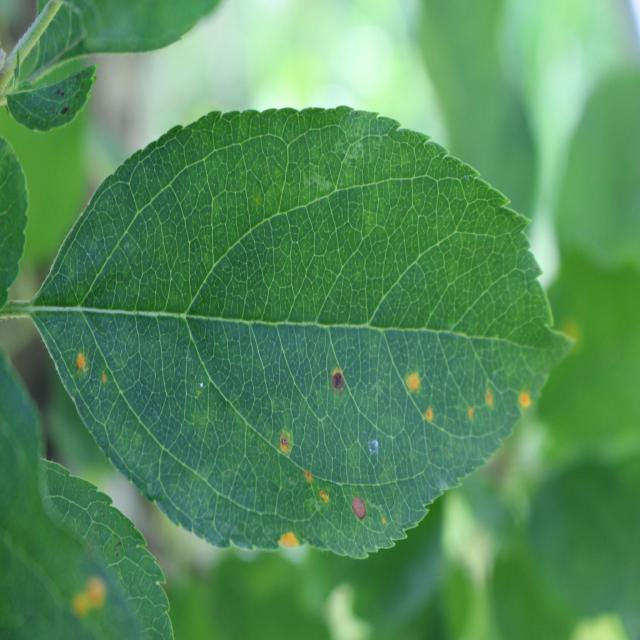Rust: (72, 571, 113, 626), (274, 528, 306, 565), (398, 365, 426, 405), (271, 419, 298, 460), (295, 457, 316, 491), (72, 346, 90, 385), (477, 383, 498, 416), (514, 386, 538, 414), (416, 404, 438, 433), (316, 482, 334, 513), (463, 399, 481, 427)
